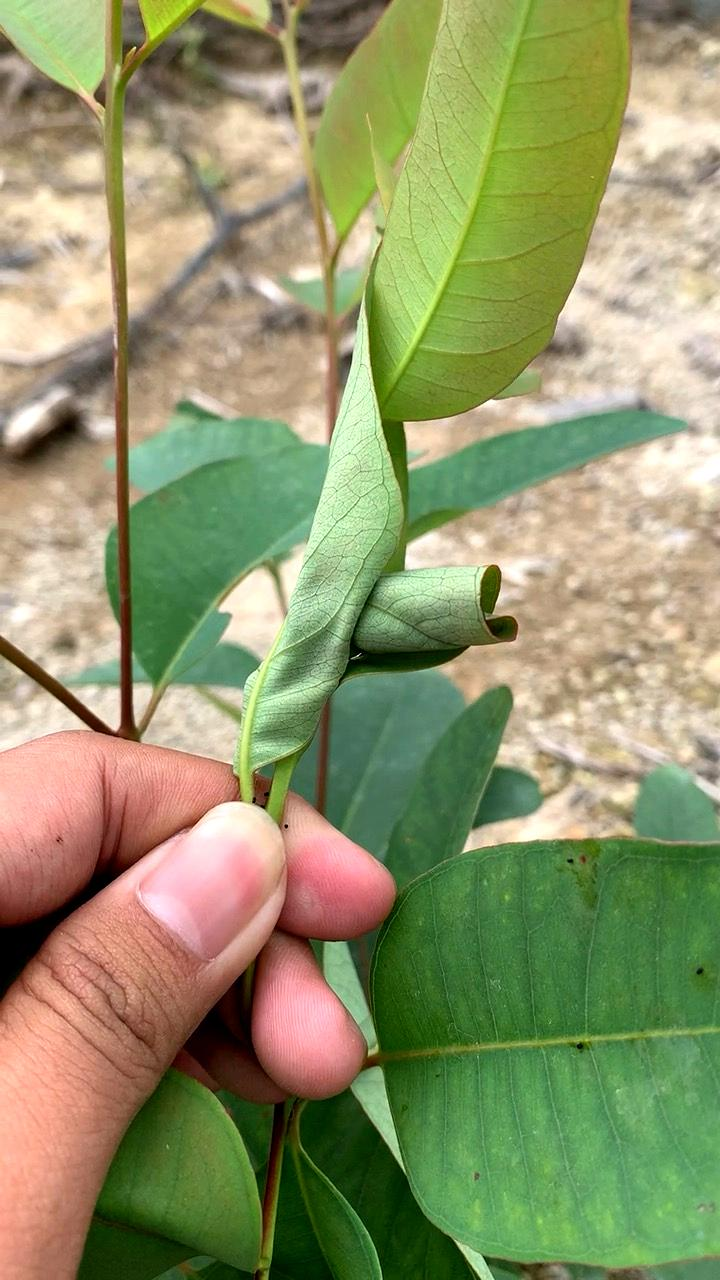Leaf Roller - Leaf: (249, 506, 548, 698)
